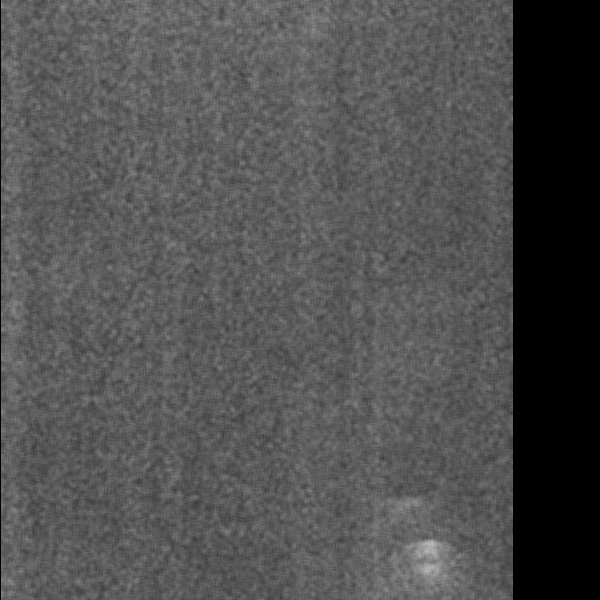spark: (197, 351, 241, 466), (1, 38, 21, 100), (258, 133, 302, 158), (266, 426, 293, 462)
